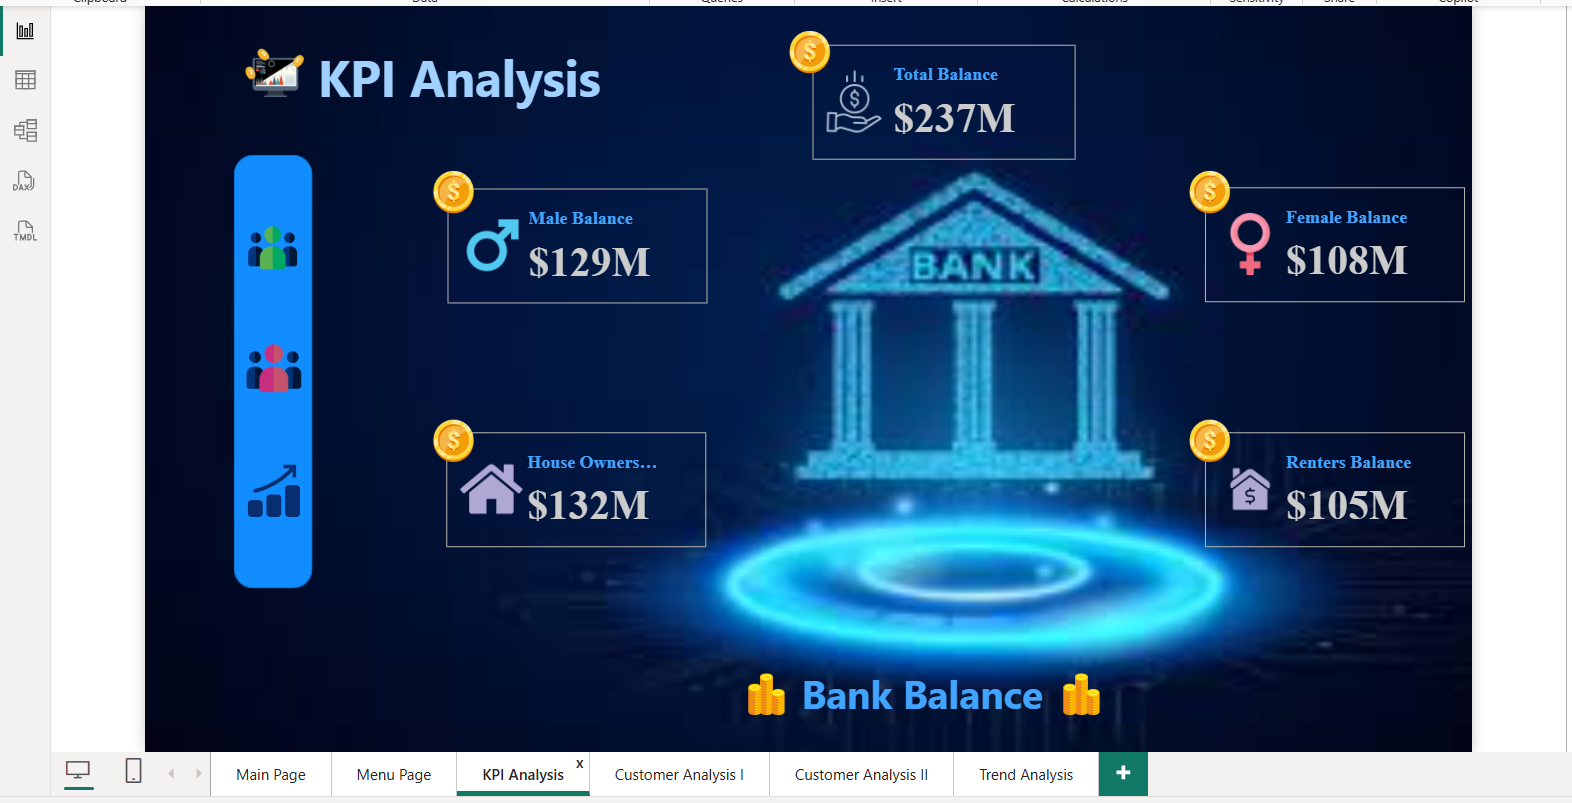

This screenshot's page, from the dashboard's own definition file:
{"tool":"powerbi","page":{"name":"KPI Analysis","canvas":[1280,720],"ordinal":2},"visuals":[{"type":"cardVisual","fields":{"Data":["Measure.Total Balance"]},"box":[639.4,32.6,264.2,121.9],"z":0},{"type":"cardVisual","fields":{"Data":["Measure.Male Balance"]},"box":[287.1,171.3,261.8,121.9],"z":1000},{"type":"cardVisual","fields":{"Data":["Measure.House Owners Balance"]},"box":[285.9,406.6,261.8,121.9],"z":2000},{"type":"cardVisual","fields":{"Data":["Measure.Female Balance"]},"box":[1018.2,170.1,261.8,121.9],"z":3000},{"type":"cardVisual","fields":{"Data":["Measure.Renters Balance"]},"box":[1018.2,406.6,261.8,121.9],"z":4000},{"type":"textbox","box":[628.6,633.4,247.3,61.5],"z":5000},{"type":"image","box":[863.8,639.4,79.6,49.5],"z":6000},{"type":"shape","box":[85.7,143.6,76,418.6],"z":7000},{"type":"image","box":[79.6,205.1,86.9,56.7],"z":8000},{"type":"image","box":[74.8,318.5,98.9,62.7],"z":9000},{"type":"image","box":[72.4,434.3,103.8,67.6],"z":10000},{"type":"textbox","box":[161.7,31.4,311.3,78.4],"z":11000},{"type":"image","box":[260.6,154.4,74.8,50.7],"z":12000},{"type":"image","box":[990.5,394.5,74.8,50.7],"z":13000},{"type":"image","box":[990.5,154.4,74.8,50.7],"z":14000},{"type":"image","box":[604.4,19.3,74.8,50.7],"z":15000},{"type":"image","box":[260.6,394.5,74.8,50.7],"z":16000},{"type":"image","box":[85.7,19.3,79.6,90.5],"z":17000},{"type":"image","box":[559.8,639.4,79.6,49.5],"z":18000}]}

Visuals, with their boxes on the page's 1280x720 design canvas (x1, y1, x2, y2). These are canvas units, not pixel positions in the 1572x803 screenshot, which may show the page scaled, cropped or inside an application window:
cardVisual - Measure.Total Balance: box(639, 33, 904, 154)
cardVisual - Measure.Male Balance: box(287, 171, 549, 293)
cardVisual - Measure.House Owners Balance: box(286, 407, 548, 528)
cardVisual - Measure.Female Balance: box(1018, 170, 1280, 292)
cardVisual - Measure.Renters Balance: box(1018, 407, 1280, 528)
textbox: box(629, 633, 876, 695)
image: box(864, 639, 943, 689)
shape: box(86, 144, 162, 562)
image: box(80, 205, 166, 262)
image: box(75, 318, 174, 381)
image: box(72, 434, 176, 502)
textbox: box(162, 31, 473, 110)
image: box(261, 154, 335, 205)
image: box(990, 394, 1065, 445)
image: box(990, 154, 1065, 205)
image: box(604, 19, 679, 70)
image: box(261, 394, 335, 445)
image: box(86, 19, 165, 110)
image: box(560, 639, 639, 689)
